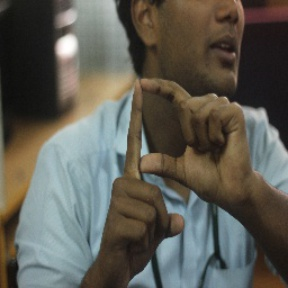D: (118, 72, 220, 211)
